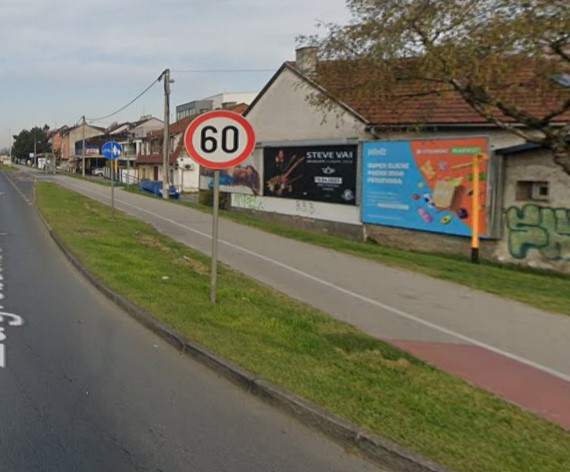Ograničenje brzine 60: (184, 110, 256, 170)
